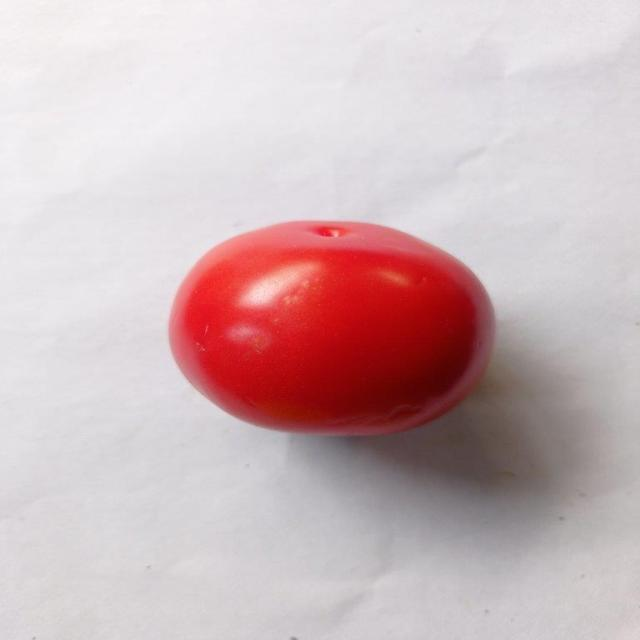Tomato: (158, 213, 503, 442)
